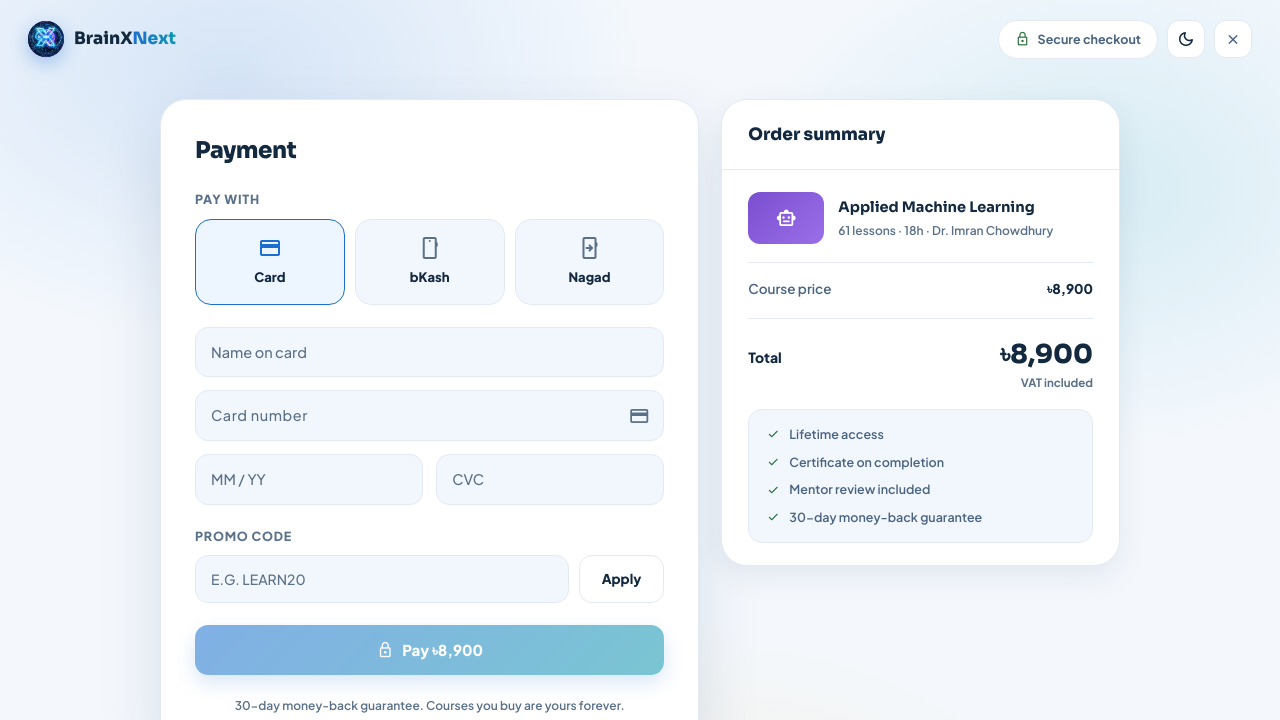
<Checkout /> (course) › blocks Pay when the typed promo code is invalid
This screenshot has width=1280, height=720.
Expected: the button "Pay ৳8,900" is shown, [195,625,664,675]
Type "Test User" into the field labelled "Name on card" at coordinates (430, 352), box [195,326,664,377]
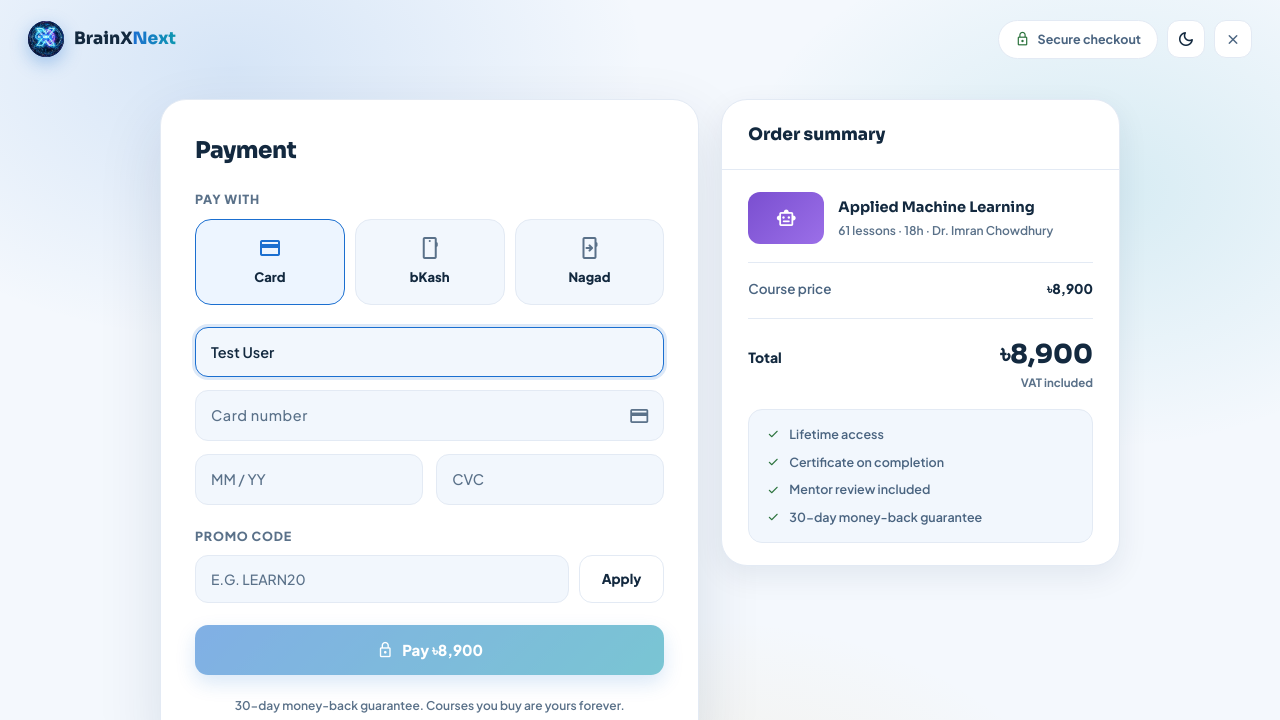
Type "4242424242424242" into the field labelled "Card number" at coordinates (430, 416), box [195,390,664,441]
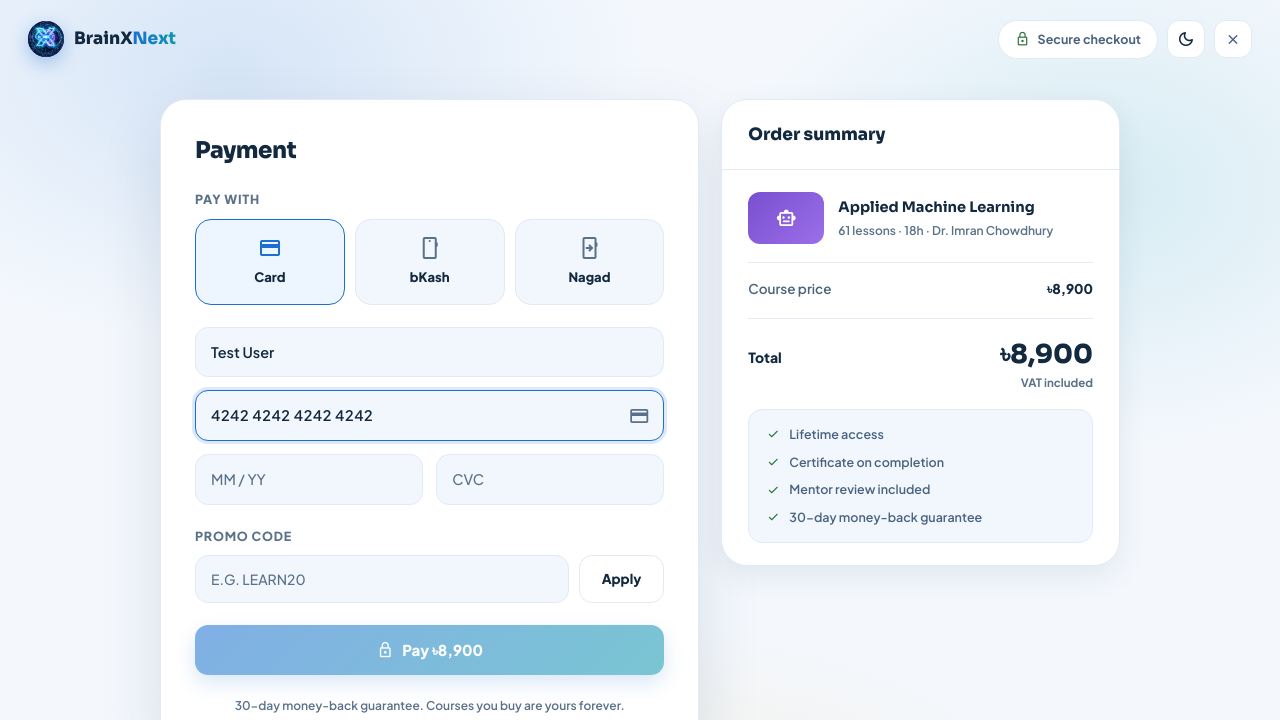
Type "1230" into the field named "Expiry" at coordinates (309, 479), box [195,454,423,505]
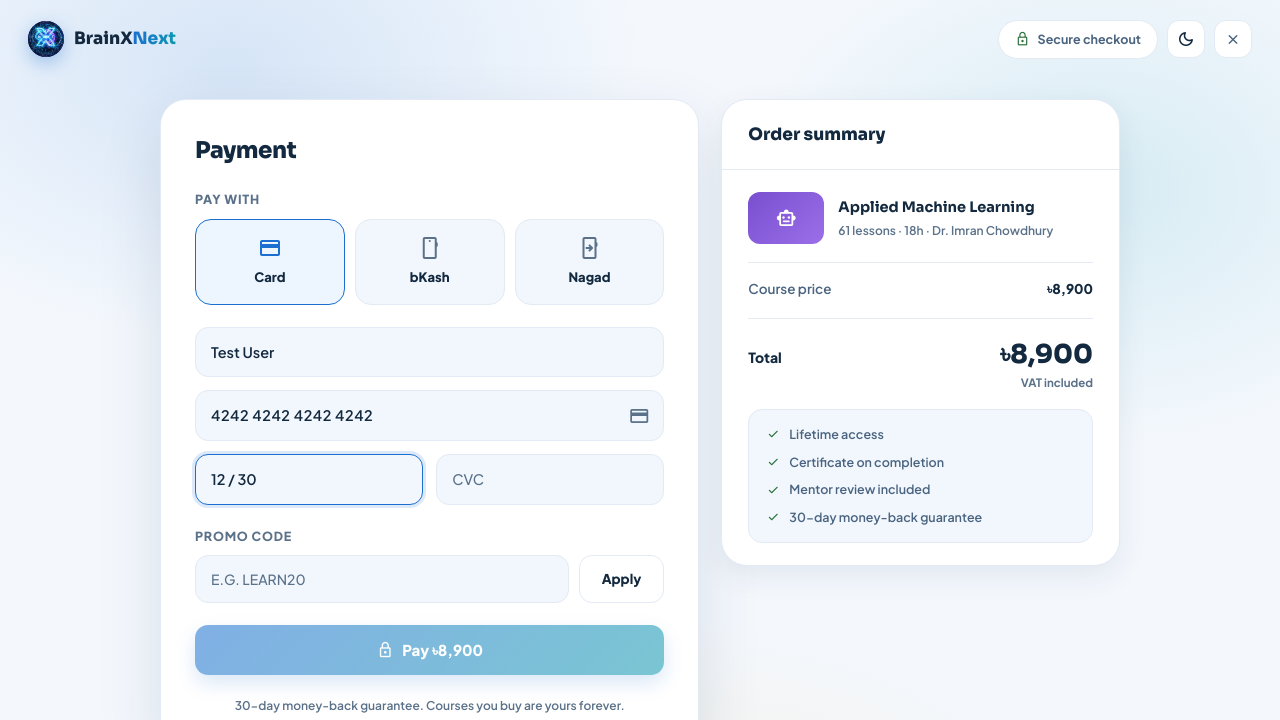
Type "123" into the password field labelled "CVC" at coordinates (550, 479), box [436,454,664,505]
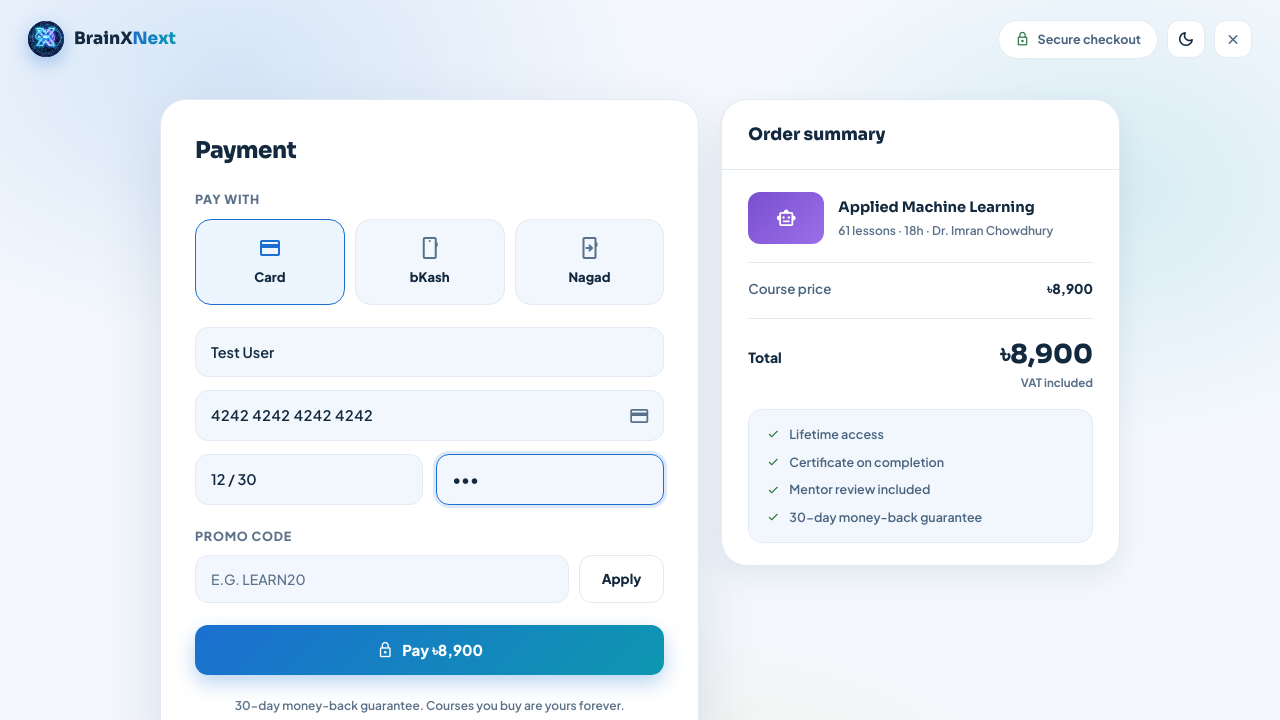
Type "NOPE" into the field labelled "PROMO CODE" at coordinates (382, 579), box [195,555,569,603]
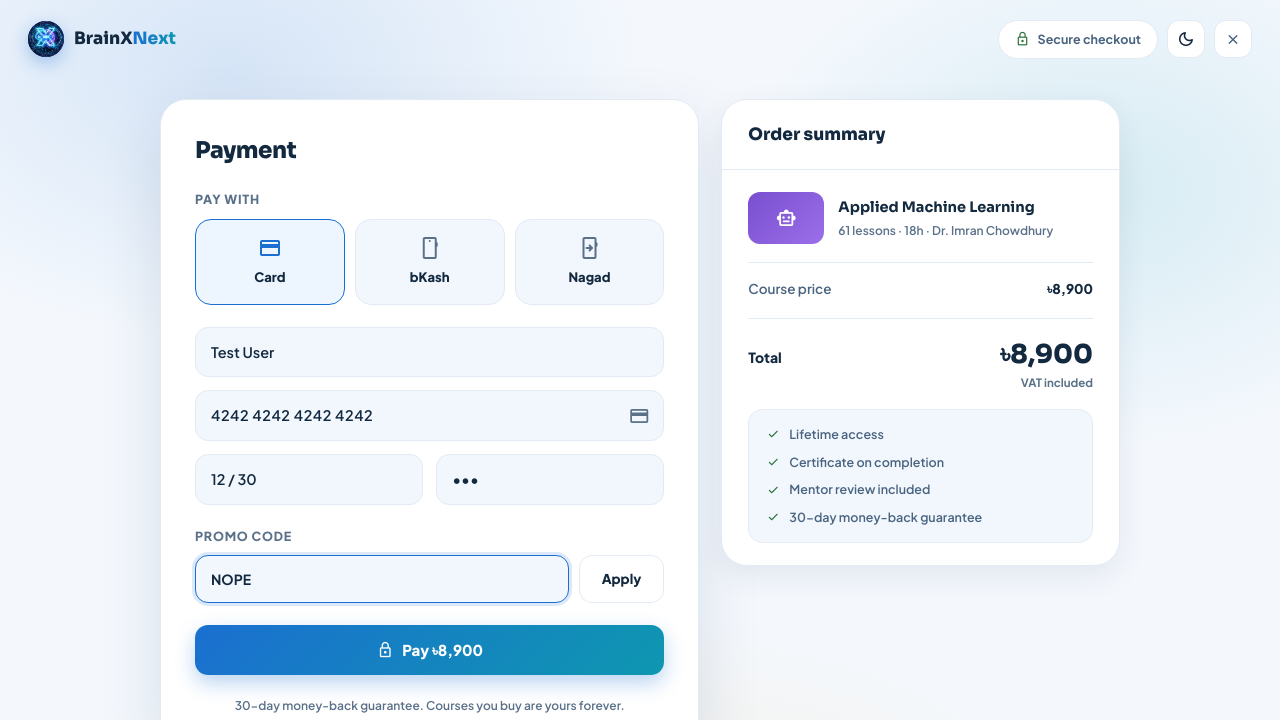
Click the button "Pay ৳8,900" at coordinates (430, 650), box [195,625,664,675]
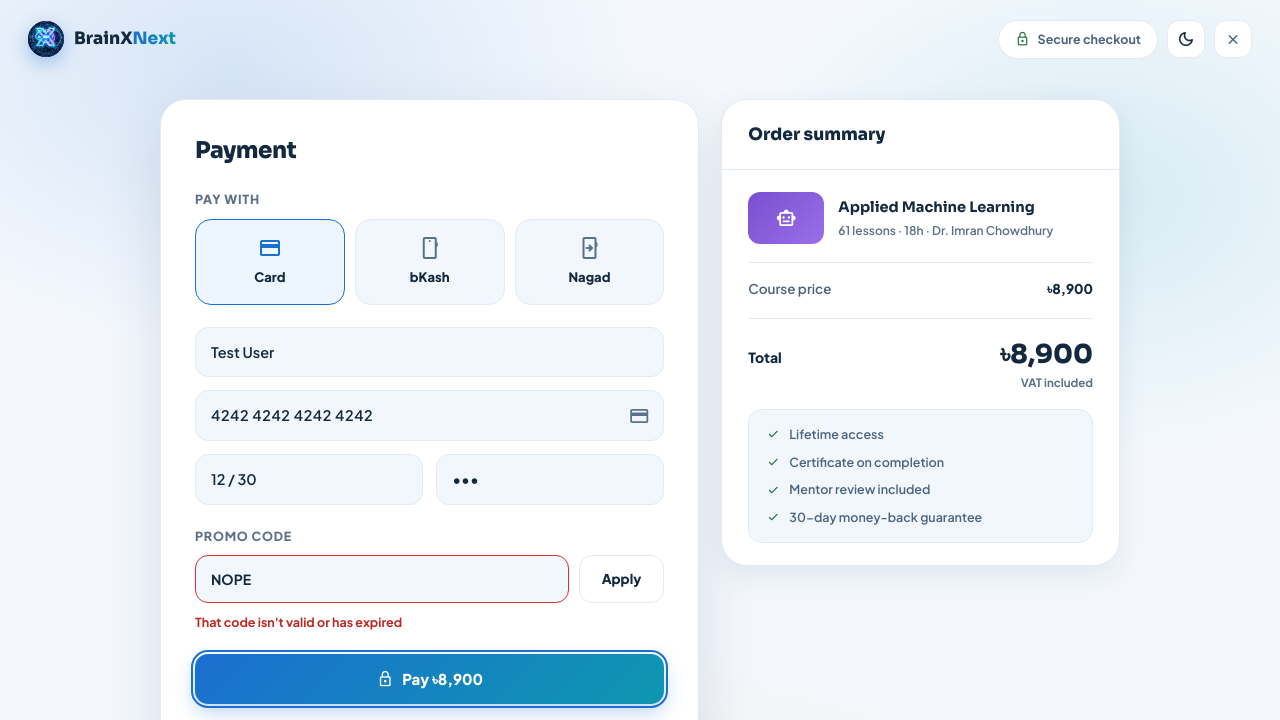
Expected: the text "That code isn't valid or has expired" is shown, [195,614,402,630]
